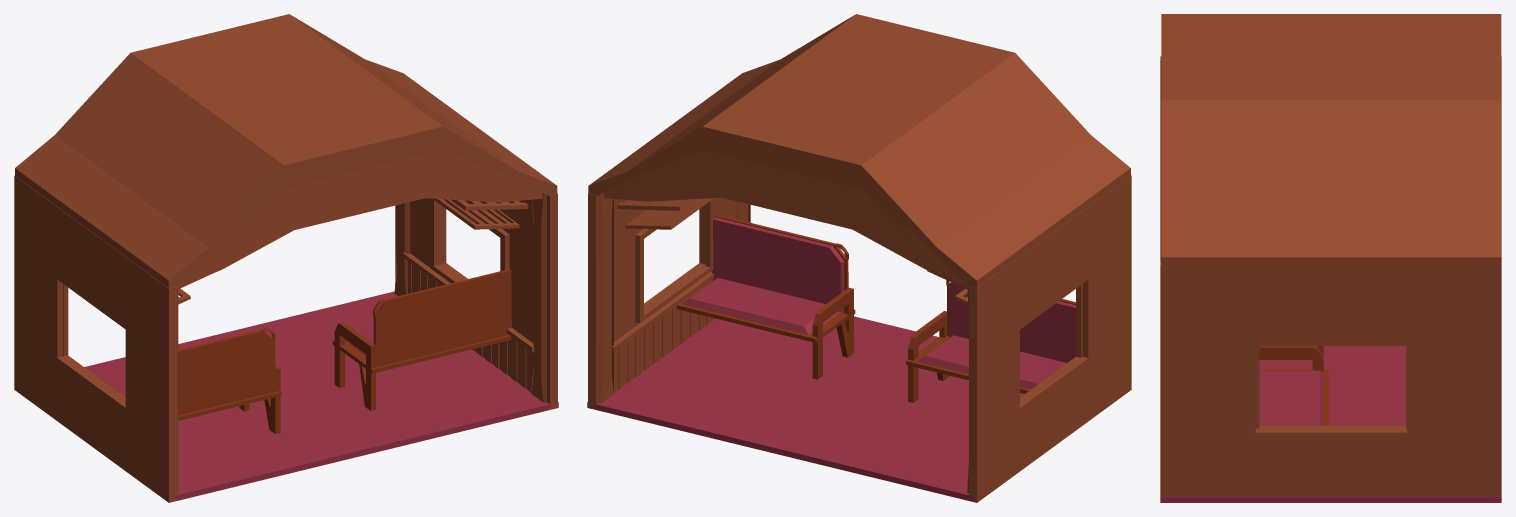
Rendered from notexttrain.fbx.
The picture shows the model from 3 angles, left to right: view 1: azimuth 30°, elevation 25°; view 2: azimuth 150°, elevation 25°; view 3: azimuth 270°, elevation 25°; orthographic projection. The views are drawn at different scales.
Parts seen in each view (by area): view 1: roof, TRAINbase.003, TRAINbase.002, top bit, TOPBACK.001, TOPBACK, pillar, underwindowbit.001, armrest2.001, windowframe.001, pillar2, railingL1 (+5 smaller); view 2: roof, TRAINbase.002, TRAINbase.003, top bit2, TOPCUSH.001, underwindowbit.001, BOTSEAT.001, TOPCUSH, pillar2, BOTSEAT, windowframe.001, armrest2.001 (+7 smaller); view 3: roof, TRAINbase.003, TRAINbase.002, BOTSEAT.001, windowframe.001, armrest2.001, BOTWOOD.001.
Part boxes in pixels (x1,y1,x2,y2): roof: (15,14,557,287); TRAINbase.003: (14,175,557,502); TRAINbase.002: (84,291,558,501); top bit: (178,150,542,287); TOPBACK.001: (373,269,511,367); TOPBACK: (178,327,275,415); pillar: (177,193,546,492); underwindowbit.001: (402,252,534,392); armrest2.001: (334,322,375,410); windowframe.001: (430,198,509,283); pillar2: (394,202,410,295); railingL1: (432,198,519,229); roof: (588,14,1130,288); TRAINbase.002: (587,316,1024,501); TRAINbase.003: (588,175,1131,502); top bit2: (604,150,966,285); TOPCUSH.001: (711,217,844,311); underwindowbit.001: (611,271,714,392); BOTSEAT.001: (681,278,839,335); TOPCUSH: (948,283,1075,362); pillar2: (598,192,968,492); BOTSEAT: (917,335,1066,389); windowframe.001: (635,198,715,323); armrest2.001: (812,287,853,379); roof: (1161,14,1501,265); TRAINbase.003: (1160,56,1501,496); TRAINbase.002: (1160,346,1501,502); BOTSEAT.001: (1259,370,1323,425); windowframe.001: (1255,346,1406,428); armrest2.001: (1259,346,1323,371); BOTWOOD.001: (1259,369,1328,425).
Size of the model in its own units: 597 by 452 by 410.
